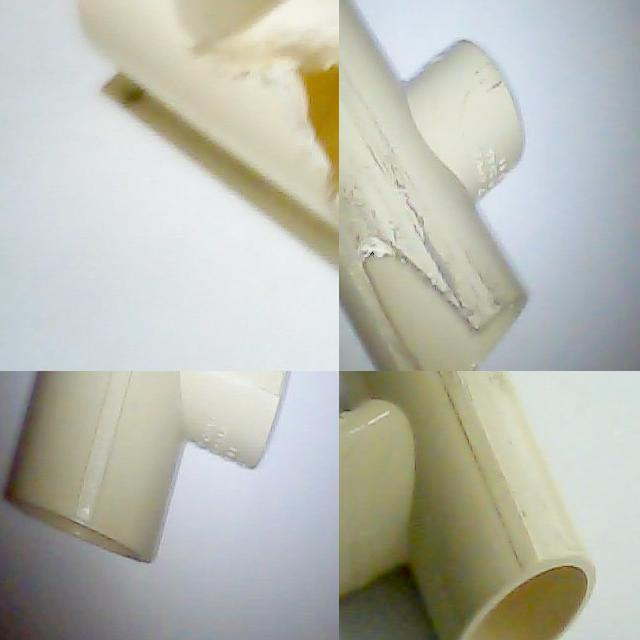Defective: (217, 26, 339, 192), (348, 241, 487, 371)
T Joint: (339, 0, 530, 371), (339, 371, 598, 640), (1, 371, 293, 566)
